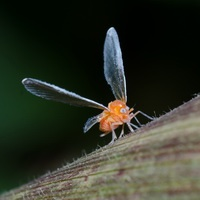insect: (22, 27, 153, 141)
